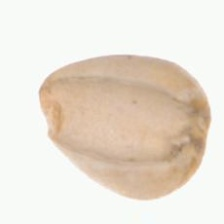L1: (188, 82, 211, 171), (37, 76, 65, 142)
L2: (37, 53, 211, 201)
